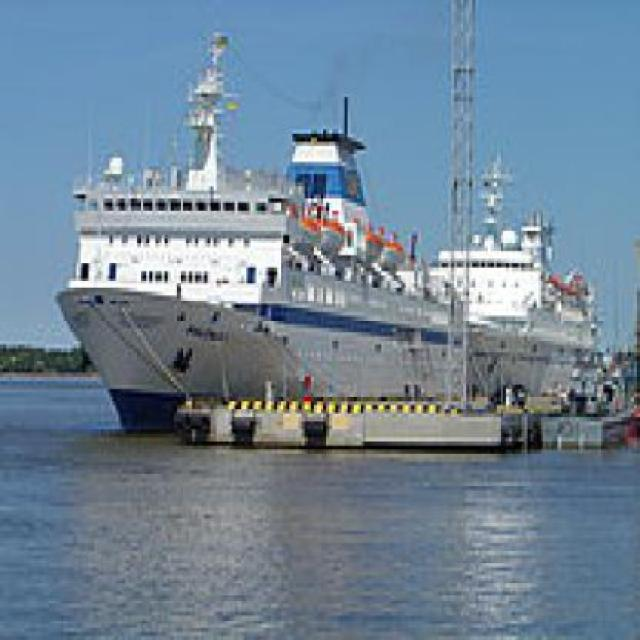cruise: (50, 21, 487, 435)
